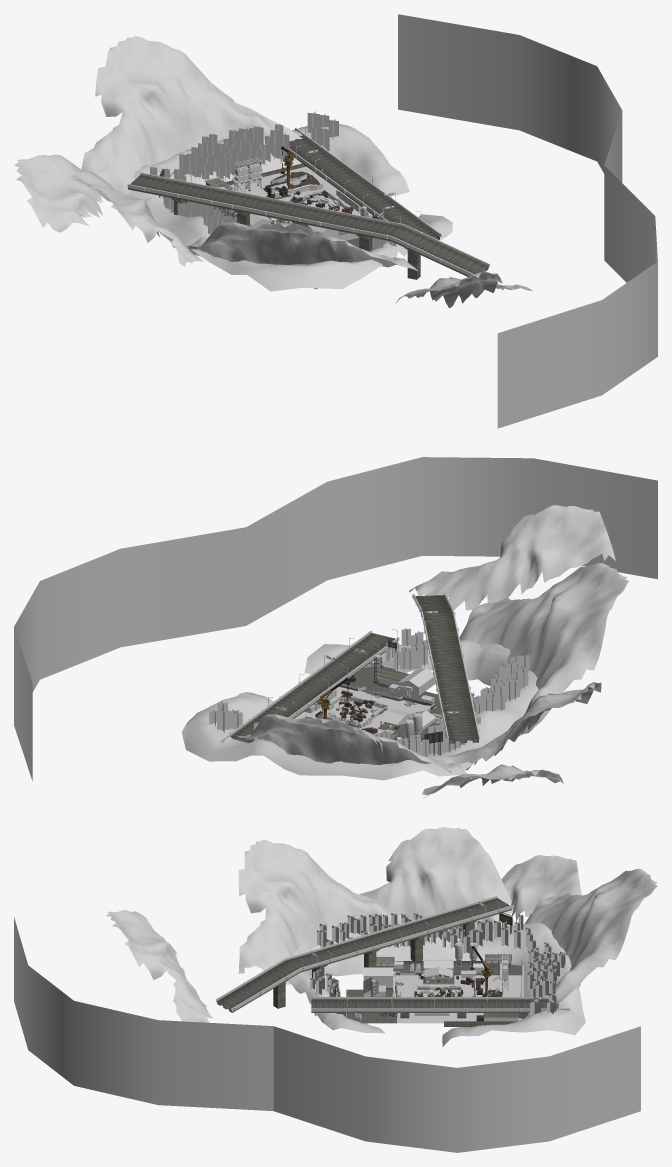
The model's file is Junkyard_World.obj.
3 renders of one model, top to bottom at view 1: azimuth 30°, elevation 25°; view 2: azimuth 150°, elevation 25°; view 3: azimuth 270°, elevation 25°, orthographic. The views are drawn at different scales.
Visible parts, largest first — view 1: junkyard_all, junkyard_alpha; view 2: junkyard_alpha, junkyard_all; view 3: junkyard_alpha, junkyard_all.
Part boxes in pixels (<box>): junkyard_all: <box>14,36,532,308</box>; junkyard_alpha: <box>150,14,657,428</box>; junkyard_alpha: <box>14,457,657,780</box>; junkyard_all: <box>181,505,628,797</box>; junkyard_alpha: <box>14,913,640,1152</box>; junkyard_all: <box>106,827,657,1046</box>.
Size of the model in its own units: 452 by 106 by 529.
